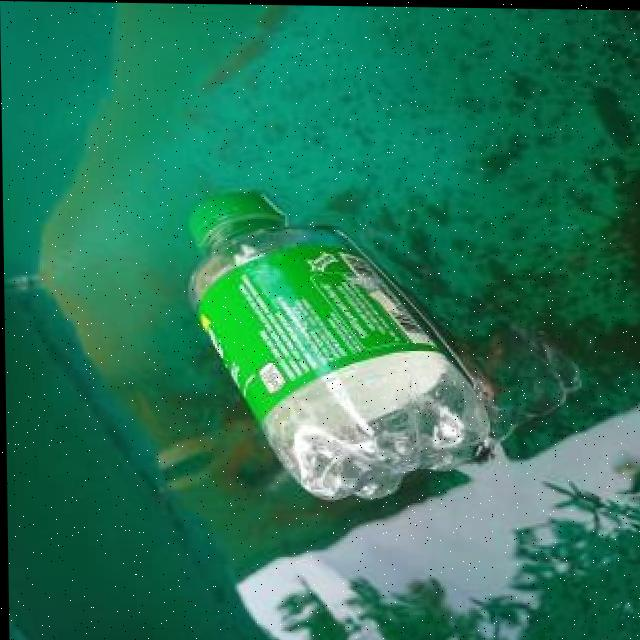bottle: (187, 187, 491, 503)
